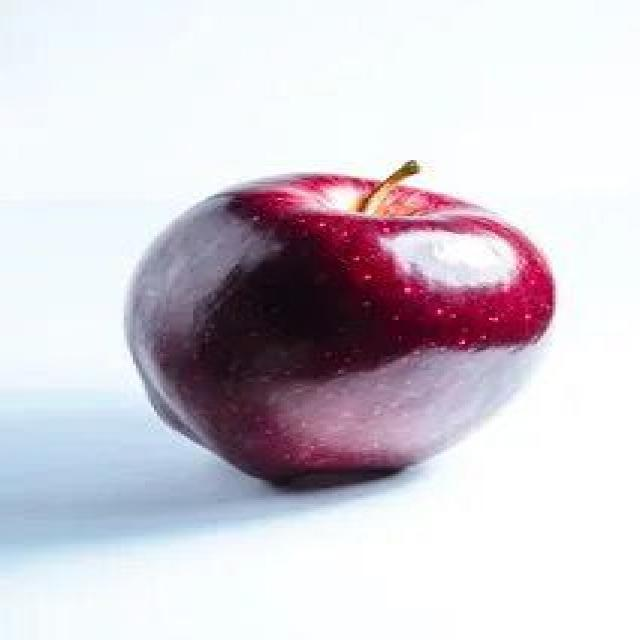Fresh Apple: (133, 175, 550, 492)
